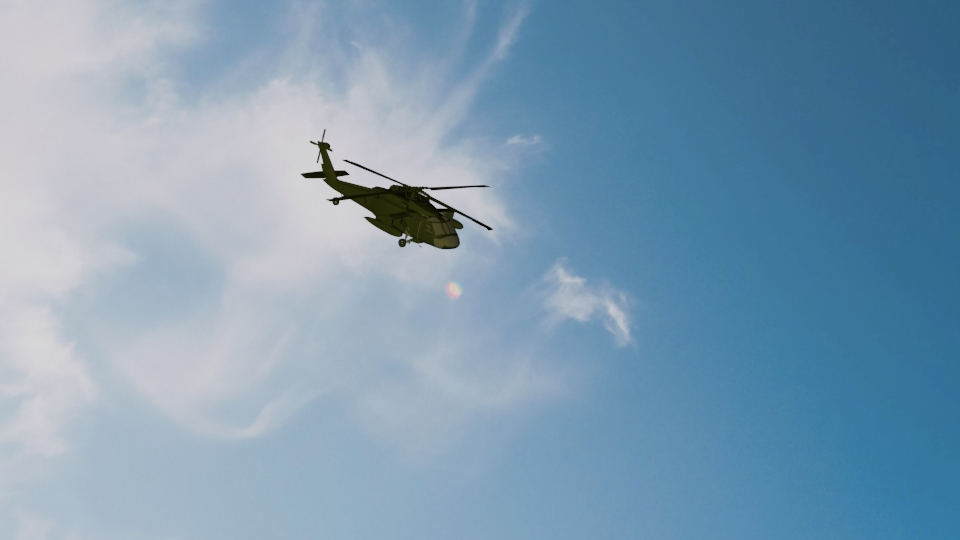heli: (293, 129, 494, 250)
